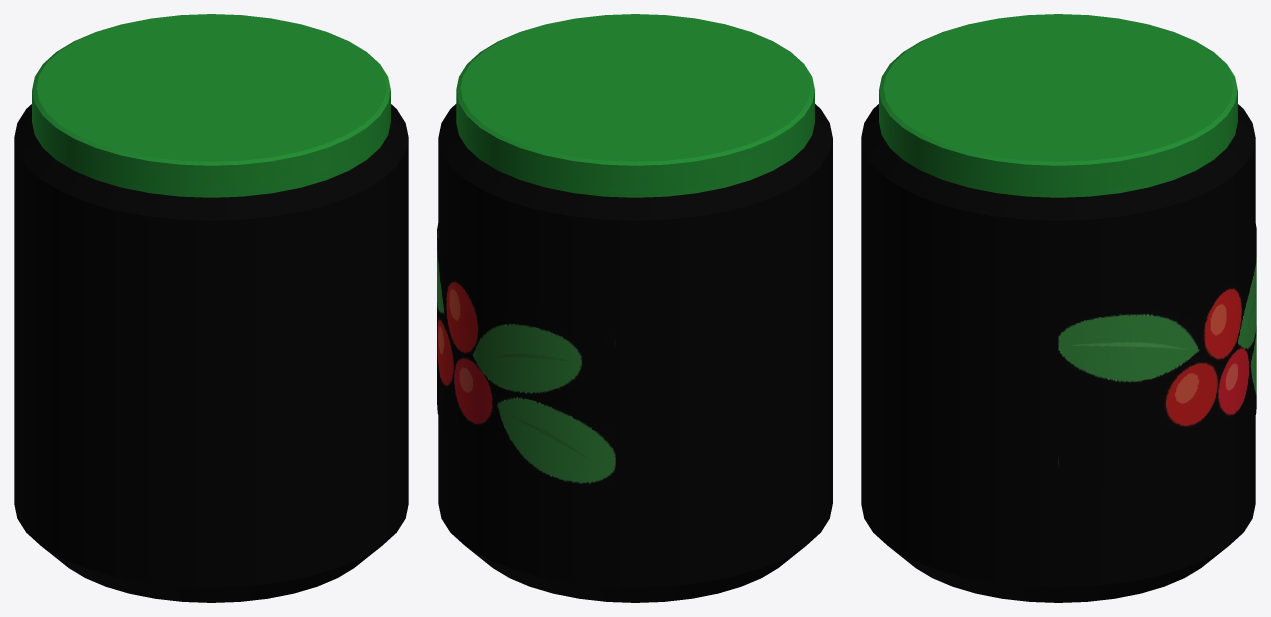
The model's file is cowberry.obj.
3 renders of one model, left to right at view 1: azimuth 30°, elevation 25°; view 2: azimuth 150°, elevation 25°; view 3: azimuth 270°, elevation 25°, orthographic.
Parts seen in each view (by area): view 1: Pot, Dop; view 2: Pot, Dop, Plane; view 3: Pot, Dop, Plane.
Part boxes in pixels (x1,y1,x2,y2): Pot: (14, 104, 408, 602); Dop: (32, 14, 390, 197); Pot: (438, 104, 832, 602); Dop: (456, 14, 814, 197); Plane: (437, 223, 615, 490); Pot: (861, 104, 1255, 602); Dop: (879, 14, 1237, 197); Plane: (1058, 224, 1256, 490).
Size of the model in its own units: 100 by 125 by 100.
